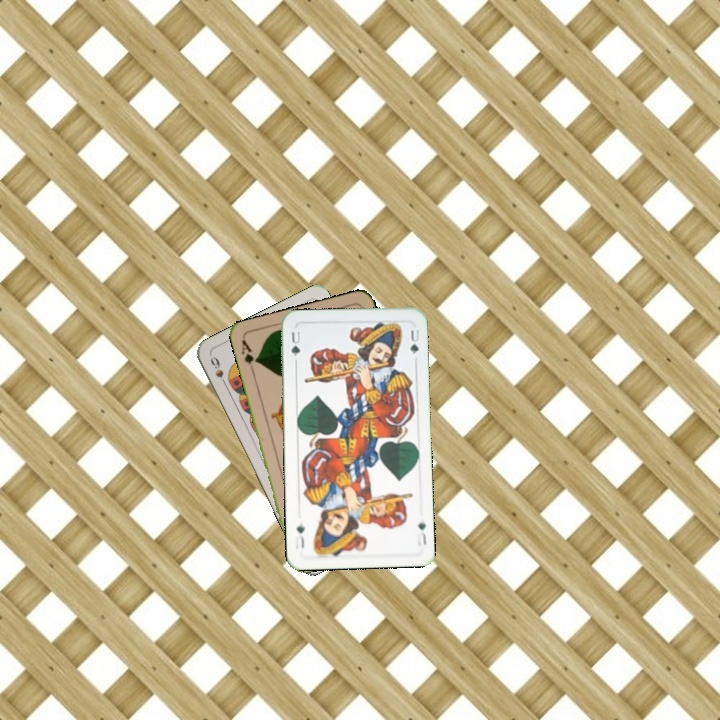GA: (237, 336, 260, 375)
GU: (287, 327, 303, 359), (413, 518, 429, 549)
S9: (206, 352, 230, 390)
